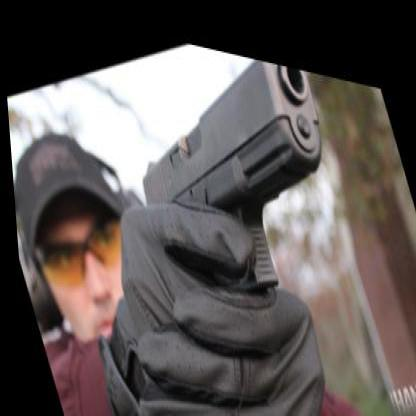pistol: (102, 19, 370, 354)
